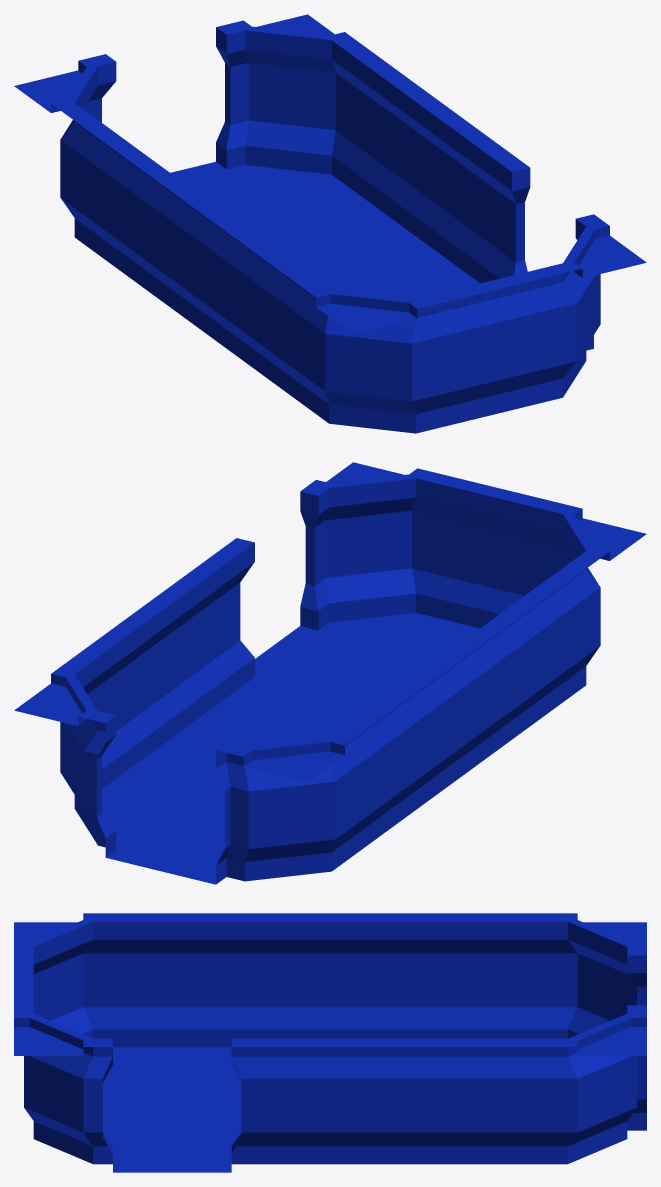
File: 2x1_Corner03.FBX
The picture shows the model from 3 angles, top to bottom: view 1: azimuth 30°, elevation 25°; view 2: azimuth 150°, elevation 25°; view 3: azimuth 270°, elevation 25°; orthographic projection. The views are drawn at different scales.
Visible parts, largest first — view 1: 2x1_Corner3; view 2: 2x1_Corner3; view 3: 2x1_Corner3.
Boxes of the visible parts, bbox=[...] form: 2x1_Corner3: bbox=[14, 14, 646, 433]; 2x1_Corner3: bbox=[14, 462, 646, 884]; 2x1_Corner3: bbox=[14, 913, 646, 1172].
Size of what is drawn, in the model's own units: 800 by 350 by 1600.
